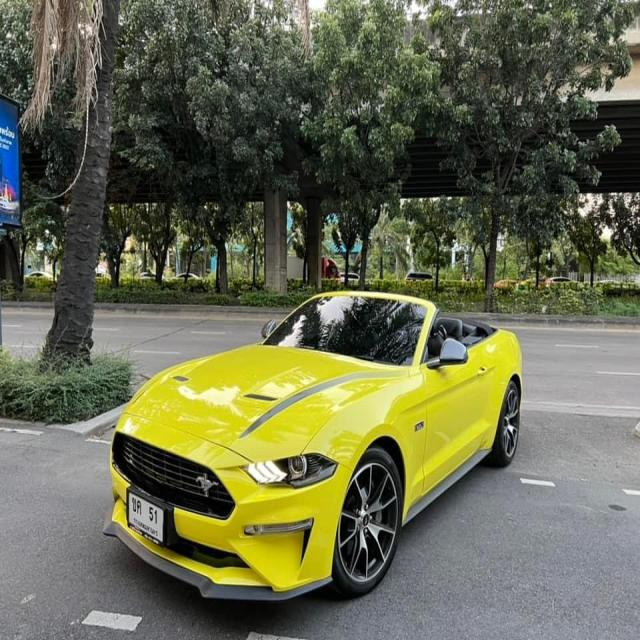license_plate: (119, 482, 174, 557)
